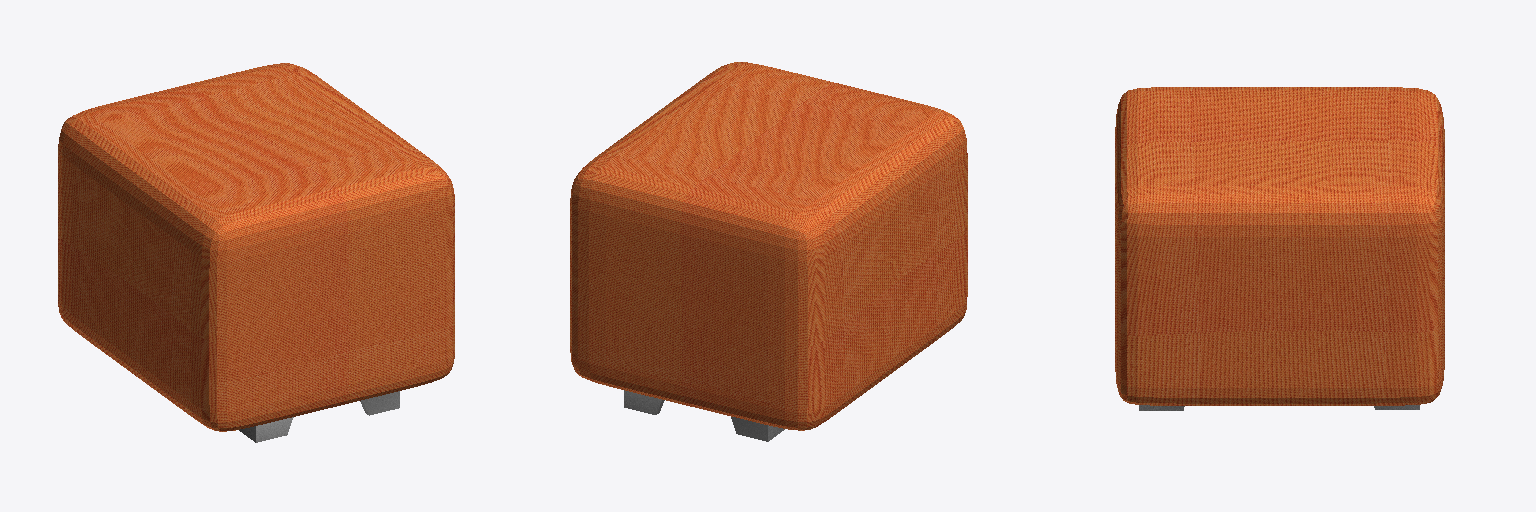
3 views of the same model, side by side, from view 1: azimuth 30°, elevation 25°; view 2: azimuth 150°, elevation 25°; view 3: azimuth 270°, elevation 25° (orthographic).
Visible parts, largest first — view 1: Cubo.009; view 2: Cubo.009; view 3: Cubo.009.
Part boxes in pixels (bbox=[...]): Cubo.009: bbox=[58, 63, 454, 442]; Cubo.009: bbox=[570, 62, 967, 441]; Cubo.009: bbox=[1115, 87, 1444, 410].
Bounding box in the file's own units: 0.5 × 0.4476 × 0.5653.
Materials: 2 (2 with a texture image).